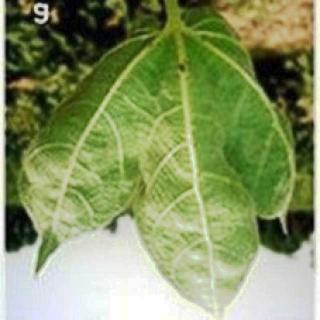curl: (22, 46, 290, 310), (294, 286, 294, 292)
